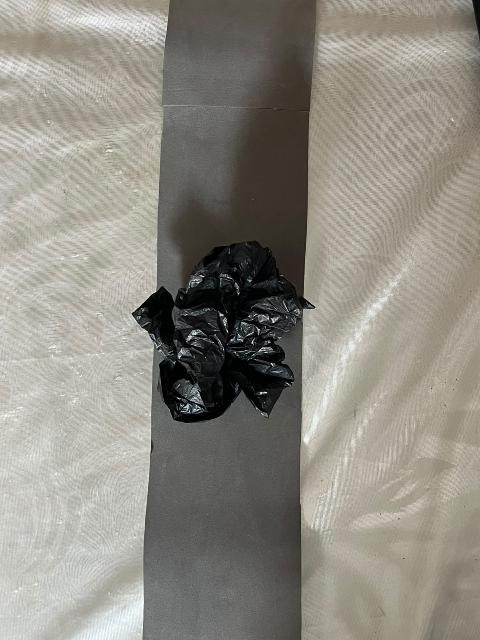LDPE: (123, 206, 340, 466)
